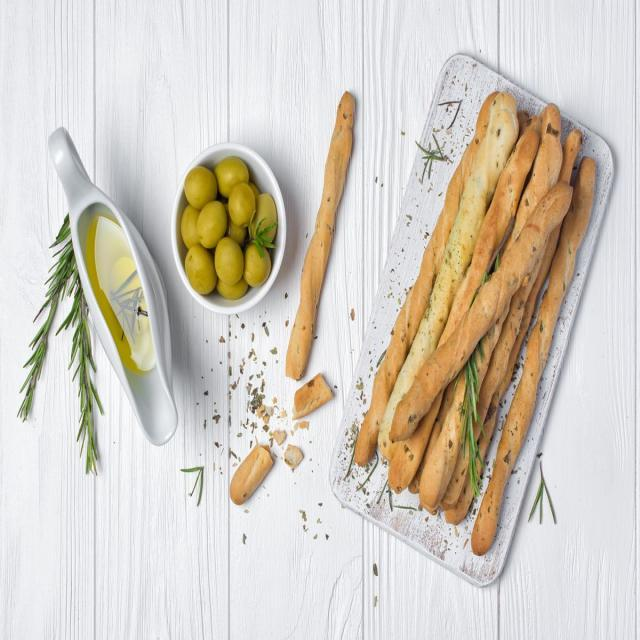Grissini: (354, 81, 600, 561), (285, 93, 354, 403)
